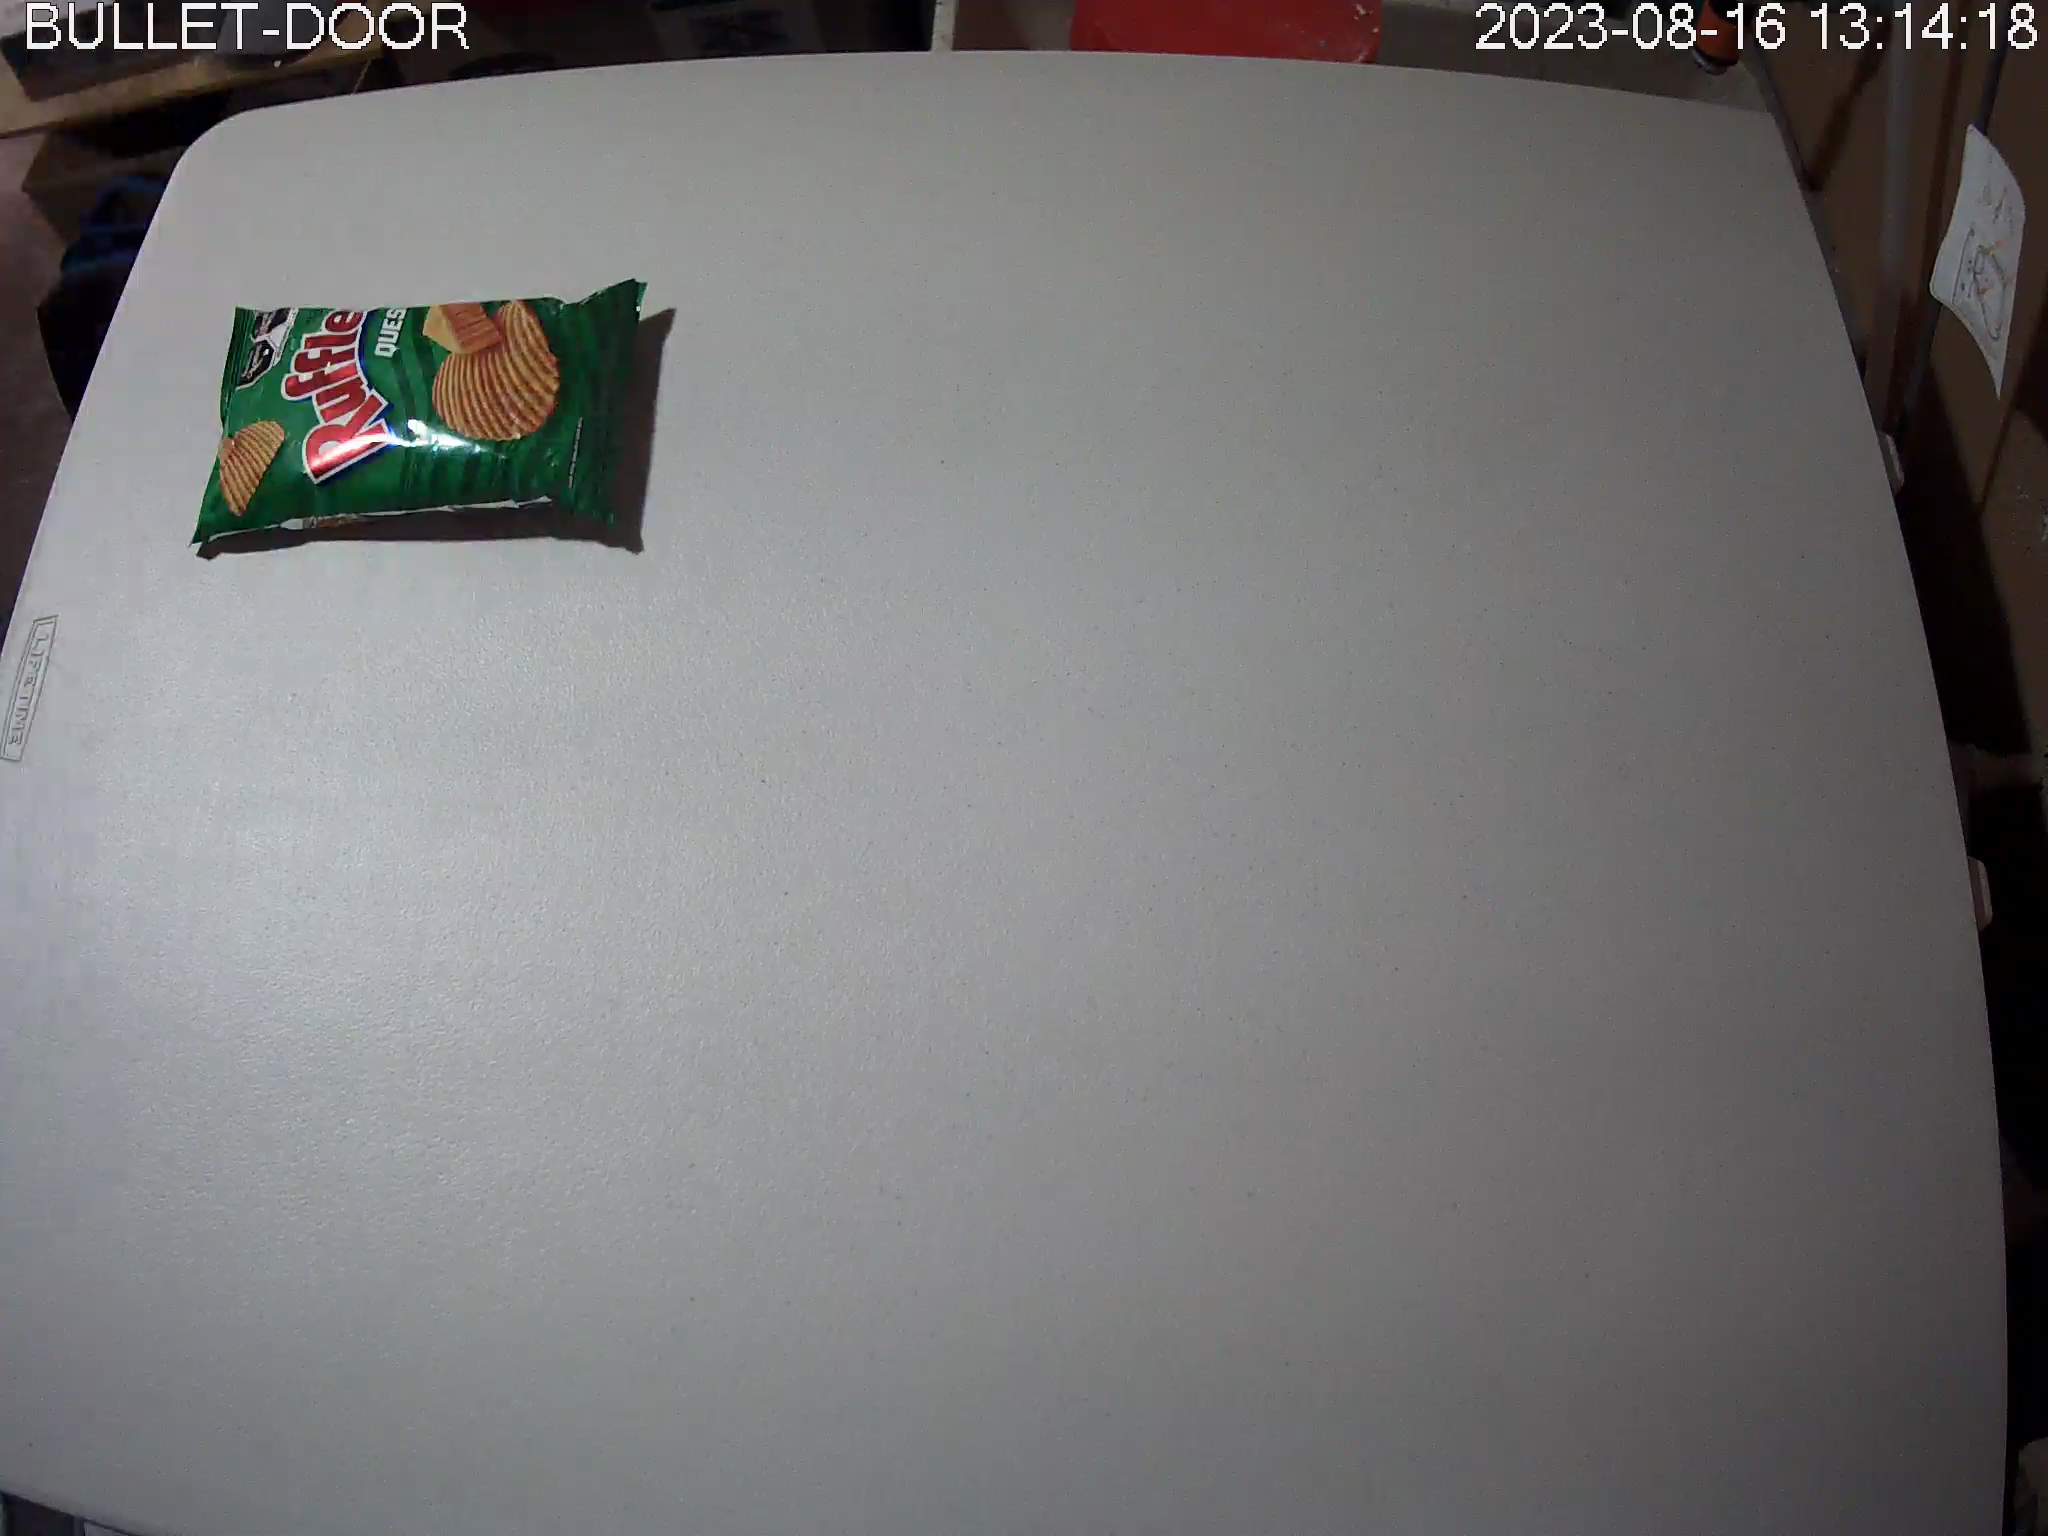RufflesQ_48_F: (185, 278, 647, 547)
